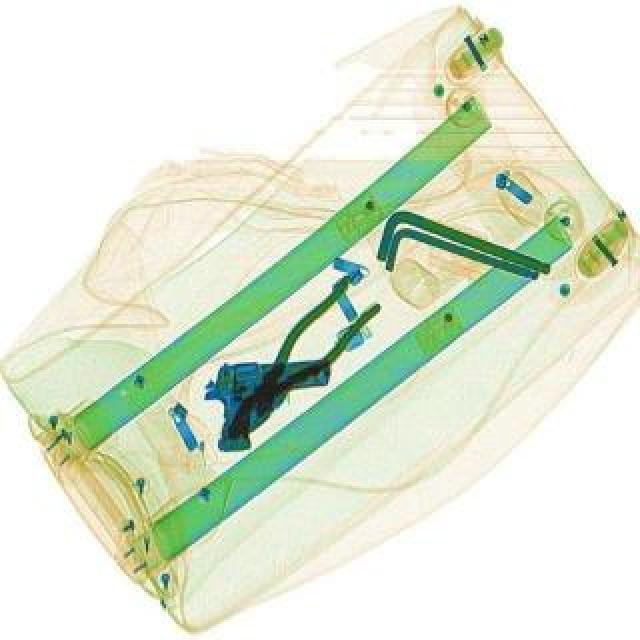gun: (198, 362, 334, 456)
wrench: (208, 278, 384, 458)
